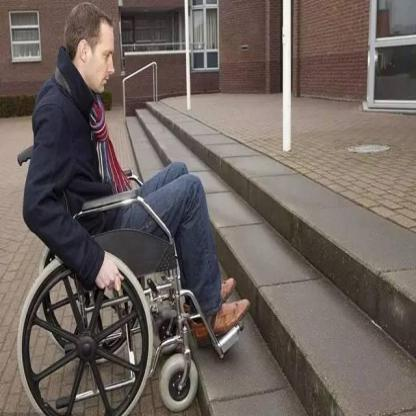wheelchair: (15, 1, 251, 415)
